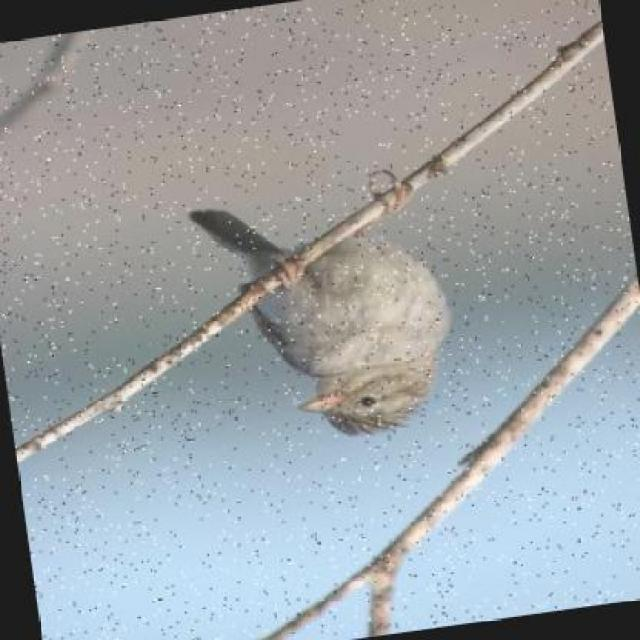Bird: (184, 179, 468, 444)
